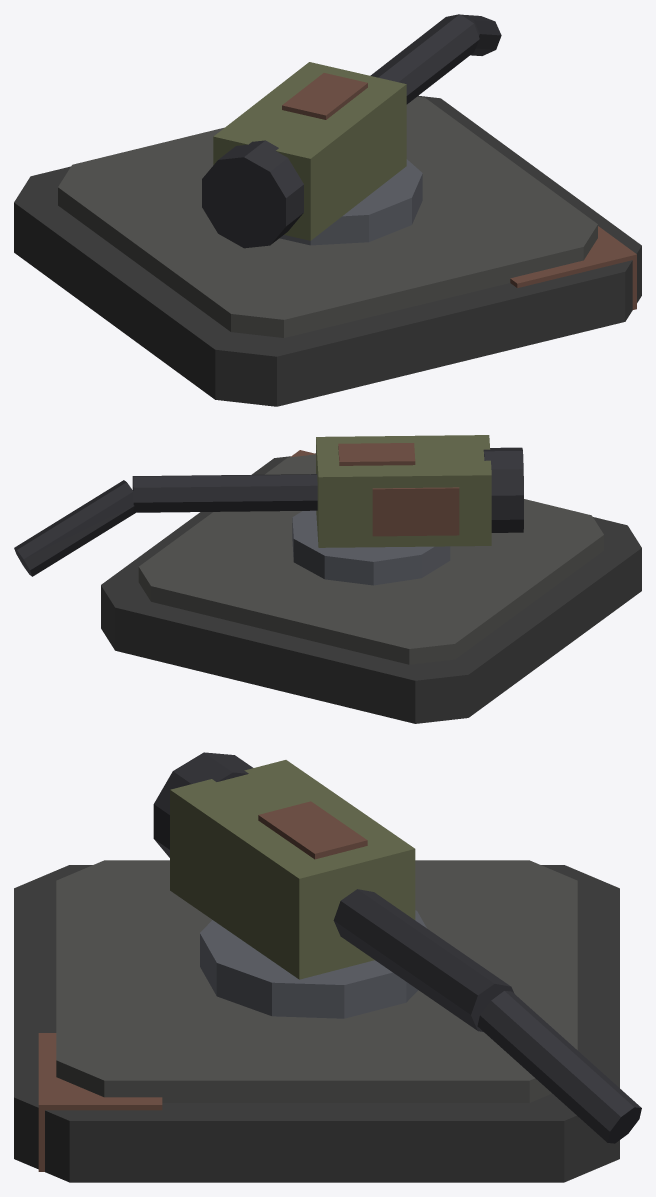
The model's file is ancient_uranium_slug_turret_1.obj.
3 views of the same model, one above another, from view 1: azimuth 30°, elevation 25°; view 2: azimuth 150°, elevation 25°; view 3: azimuth 270°, elevation 25° (orthographic). The views are drawn at different scales.
Visible parts, largest first — view 1: ancient_uranium_slug_turret_1; view 2: ancient_uranium_slug_turret_1; view 3: ancient_uranium_slug_turret_1.
Part boxes in pixels (<box>): ancient_uranium_slug_turret_1: <box>14,14,641,406</box>; ancient_uranium_slug_turret_1: <box>14,435,641,723</box>; ancient_uranium_slug_turret_1: <box>14,752,641,1182</box>.
Size of the model in its own units: 2.32 by 0.8 by 2.03.
